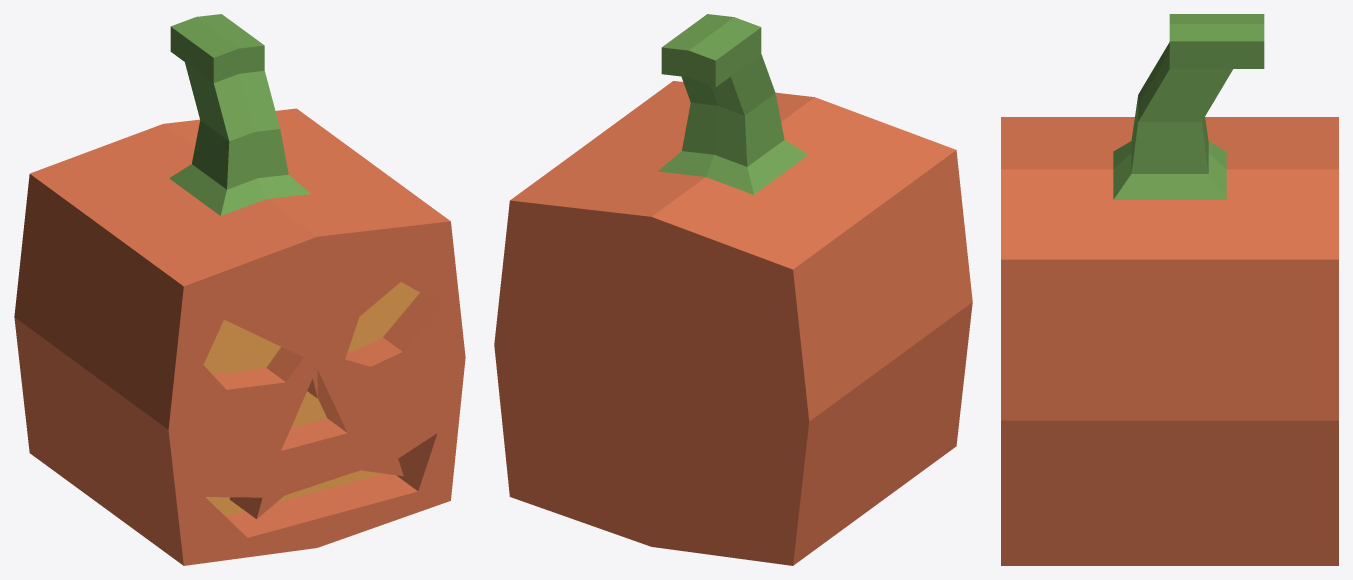
Rendered from pumpkin.fbx.
The picture shows the model from 3 angles, left to right: view 1: azimuth 30°, elevation 25°; view 2: azimuth 150°, elevation 25°; view 3: azimuth 270°, elevation 25°; orthographic projection. The views are drawn at different scales.
Parts seen in each view (by area): view 1: Cube; view 2: Cube; view 3: Cube.
Part boxes in pixels (box(x1,y1,x2,y2)): Cube: box(14, 14, 465, 565); Cube: box(494, 14, 972, 565); Cube: box(1001, 14, 1338, 565).
Size of the model in its own units: 222 by 317 by 200.
